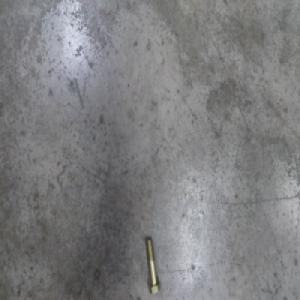Bolt: (144, 237, 161, 294)
